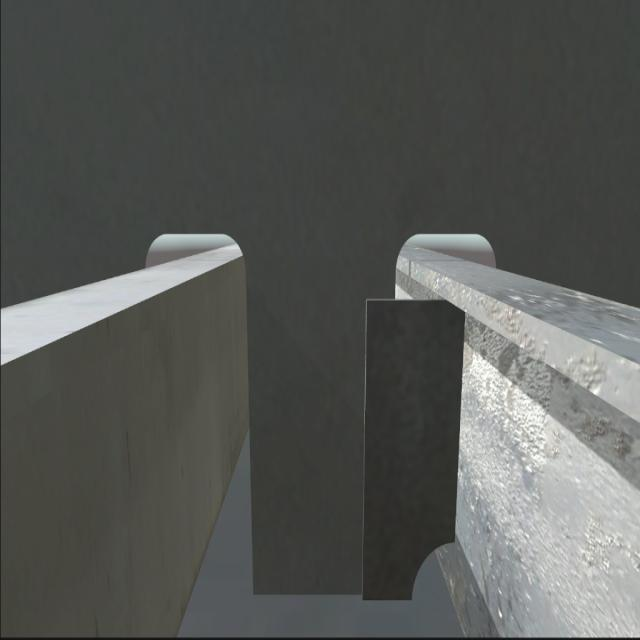fillet_hole: (409, 541, 460, 599)
fillet_yong_jeop_jang: (250, 582, 430, 606)
longi_yong_jeop_jang: (453, 298, 468, 540)
plate_CP01: (364, 298, 459, 596)
